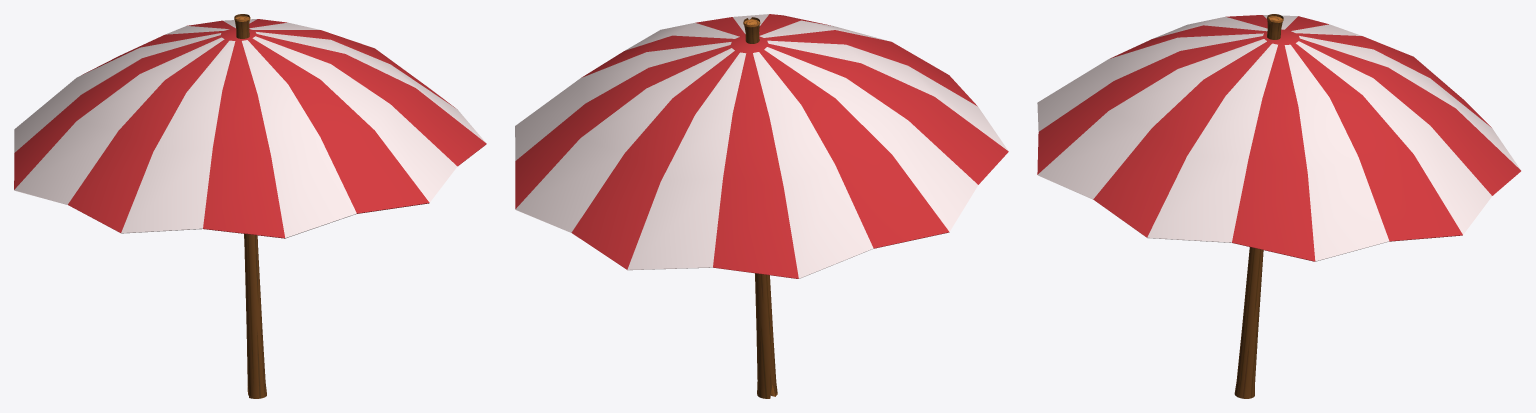
The model's file is Festive UmbrellaHand.fbx.
The picture shows the model from 3 angles, left to right: view 1: azimuth 30°, elevation 25°; view 2: azimuth 150°, elevation 25°; view 3: azimuth 270°, elevation 25°; orthographic projection. The views are drawn at different scales.
Visible parts, largest first — view 1: Capsule (5), Capsule (4); view 2: Capsule (5), Capsule (4); view 3: Capsule (5), Capsule (4).
Boxes of the visible parts, x1=… form: Capsule (5): x1=14, y1=19, x2=486, y2=238; Capsule (4): x1=234, y1=14, x2=266, y2=398; Capsule (5): x1=515, y1=14, x2=1008, y2=278; Capsule (4): x1=743, y1=17, x2=777, y2=398; Capsule (5): x1=1037, y1=15, x2=1521, y2=261; Capsule (4): x1=1234, y1=14, x2=1283, y2=398.
Bounding box in the file's own units: 5.53 × 4.69 × 5.43.
